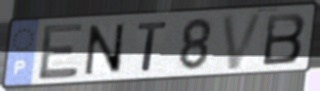8: (177, 17, 213, 72)
B: (261, 11, 308, 67)
E: (36, 21, 85, 83)
N: (83, 22, 127, 77)
T: (136, 19, 170, 73)
V: (220, 10, 267, 72)
